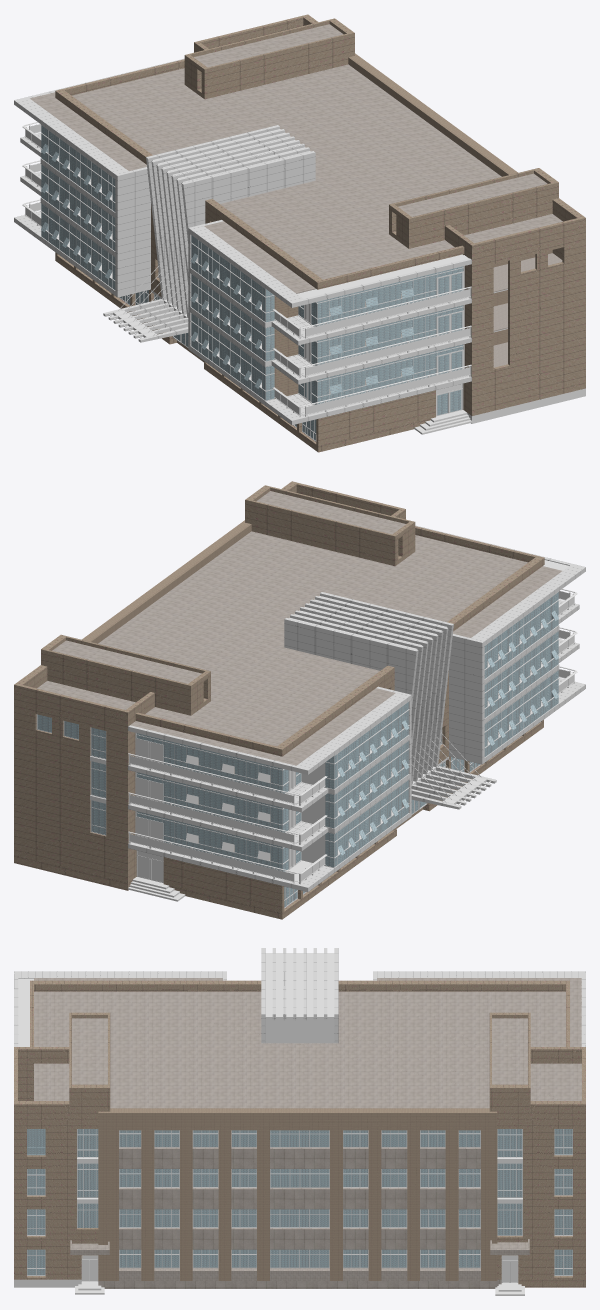
Rendered from building02.fbx.
3 views of the same model, one above another, from view 1: azimuth 30°, elevation 25°; view 2: azimuth 150°, elevation 25°; view 3: azimuth 270°, elevation 25° (orthographic). The views are drawn at different scales.
Visible parts, largest first — view 1: Mesh1_Group1_Model; view 2: Mesh1_Group1_Model; view 3: Mesh1_Group1_Model.
Part boxes in pixels (x1=…): Mesh1_Group1_Model: x1=14, y1=14, x2=585, y2=452; Mesh1_Group1_Model: x1=14, y1=481, x2=585, y2=919; Mesh1_Group1_Model: x1=14, y1=948, x2=585, y2=1295.
Size of the model in its own units: 12732 by 6808 by 17671.
916 materials, 5 textured.
